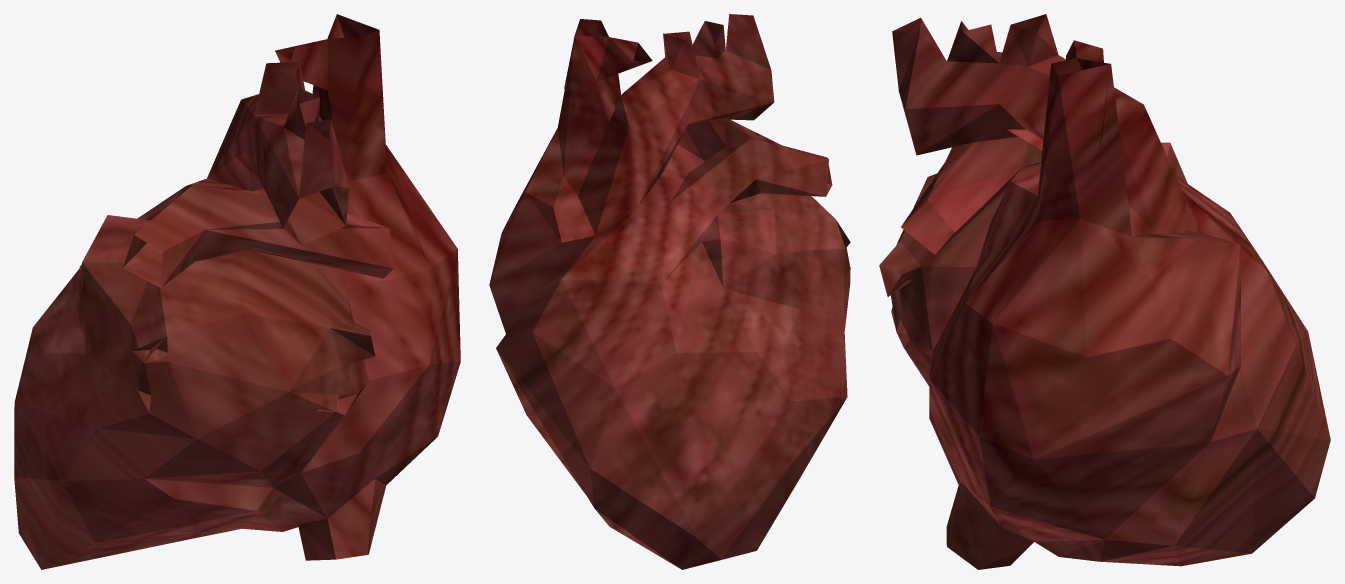
The model's file is SERCE.glb.
3 renders of one model, left to right at view 1: azimuth 30°, elevation 25°; view 2: azimuth 150°, elevation 25°; view 3: azimuth 270°, elevation 25°, orthographic. The views are drawn at different scales.
Parts seen in each view (by area): view 1: SERCE; view 2: SERCE; view 3: SERCE.
Boxes of the visible parts, x1=… form: SERCE: x1=14, y1=14, x2=460, y2=569; SERCE: x1=489, y1=14, x2=850, y2=569; SERCE: x1=879, y1=14, x2=1330, y2=569.
Size of the model in its own units: 0.1606 by 0.2104 by 0.1529.
Materials: 1 (1 with a texture image).
